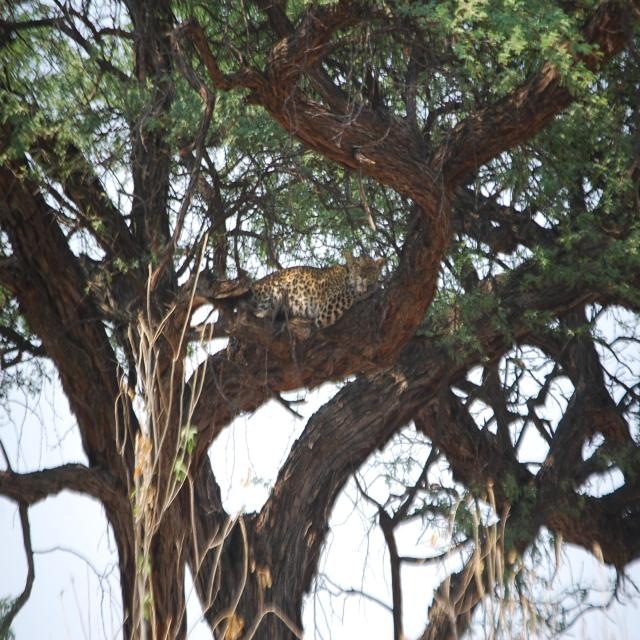Leopard: (222, 244, 387, 361)
